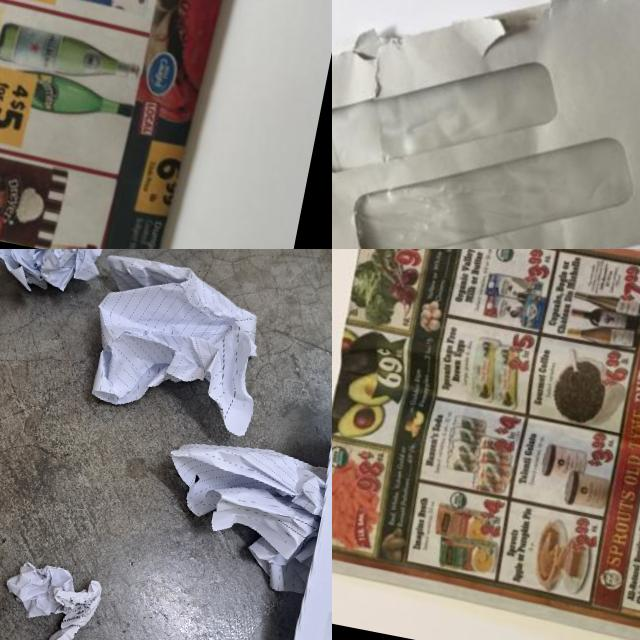papel: (332, 249, 640, 640), (332, 0, 640, 249), (0, 0, 266, 249), (78, 251, 278, 438), (210, 372, 332, 640), (150, 433, 332, 597), (0, 557, 105, 640), (0, 249, 111, 304)
